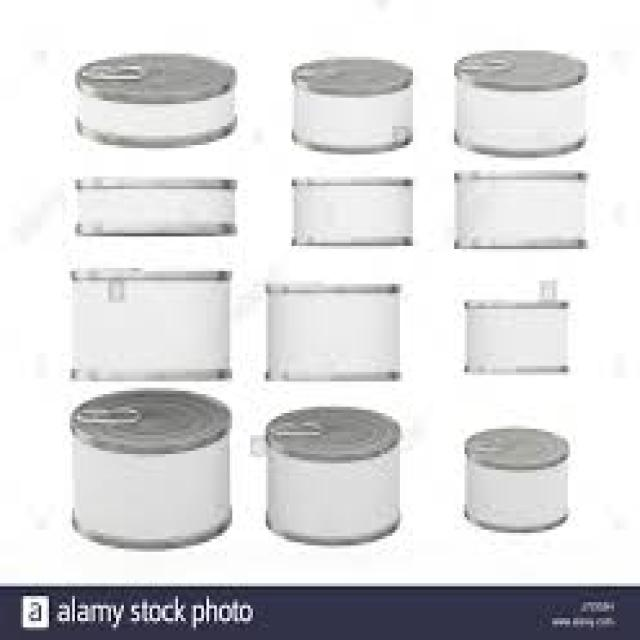metal: (70, 388, 227, 545), (264, 404, 398, 542), (67, 262, 227, 375), (72, 47, 235, 145), (452, 44, 586, 151), (264, 278, 398, 375), (289, 54, 410, 151), (462, 426, 568, 530), (449, 167, 586, 246), (459, 274, 568, 369), (75, 174, 235, 237), (287, 176, 411, 246)
